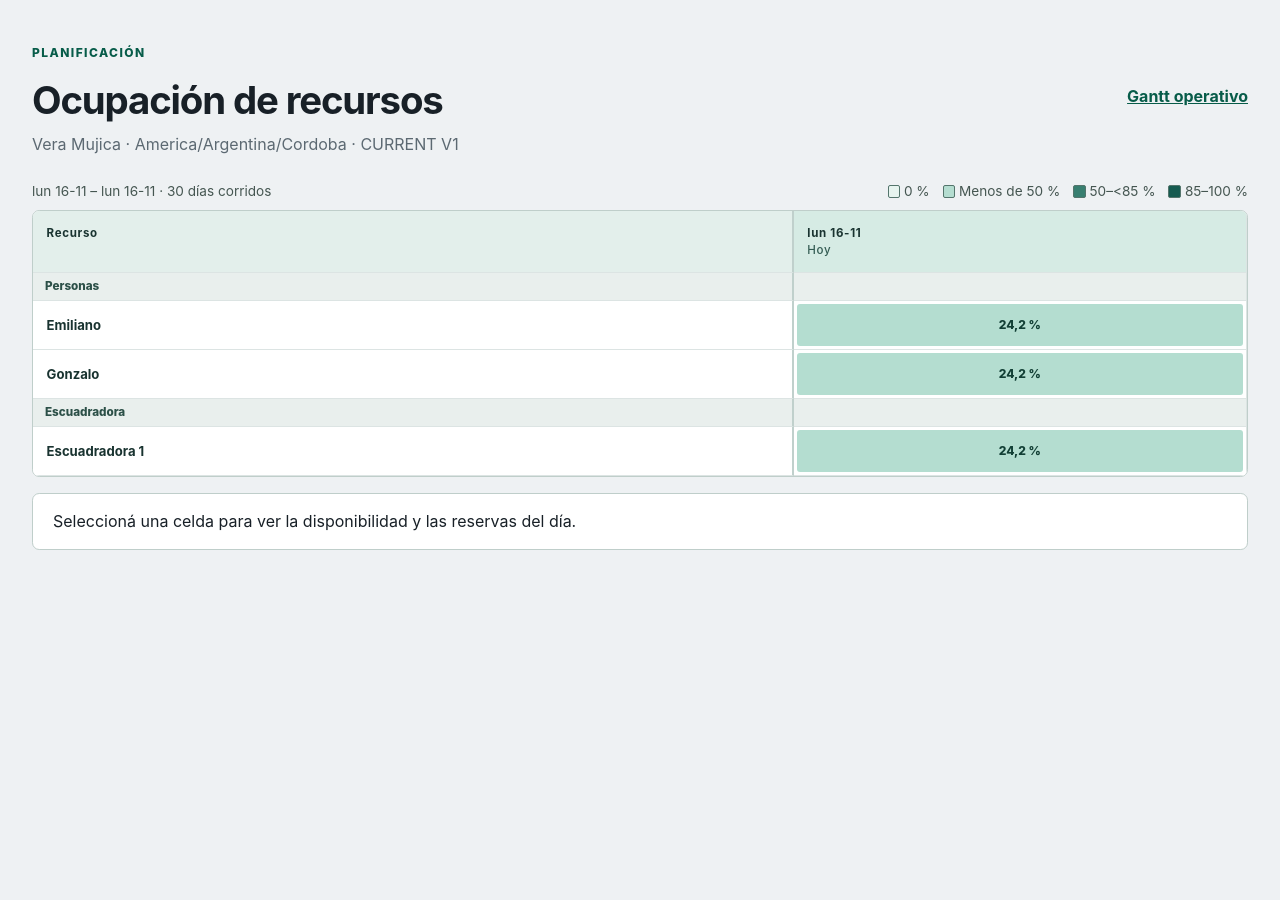
it: muestra el mismo tramo de dos horas en cada recurso de CURRENT
The width and height of the screenshot is (1280, 900).
Click the button "24,2 %" in the row of "Emiliano". click: (1020, 325)
box: 797,304 -> 1243,346
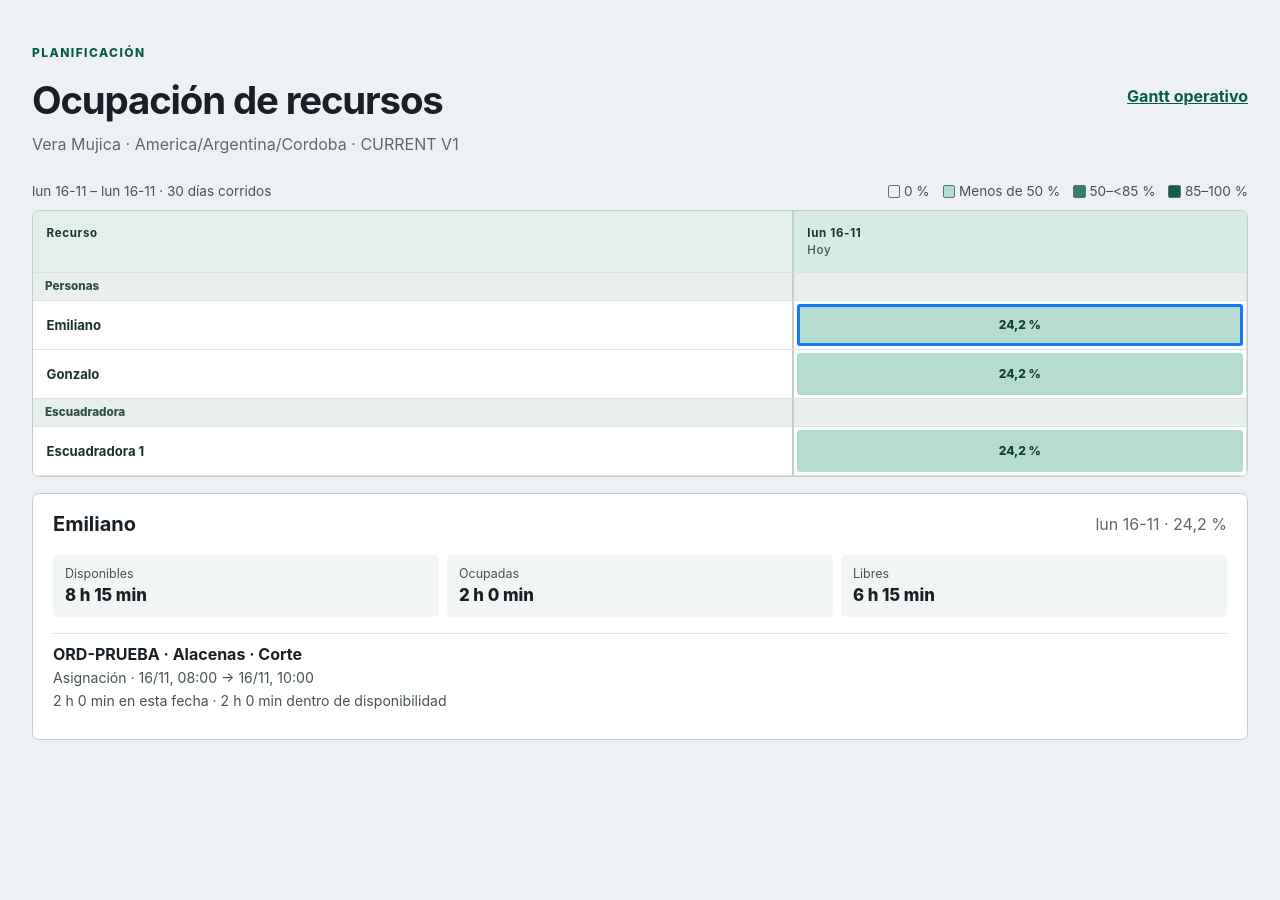
Check: the heading "Emiliano" is shown, box 53,510 -> 136,539
Check: the text "8 h 15 min" is shown, box 65,585 -> 147,605
Check: the text "2 h 0 min" is shown, box 459,585 -> 534,605
Click the button "24,2 %" in the row of "Gonzalo". click: (1020, 374)
box: 797,353 -> 1243,395
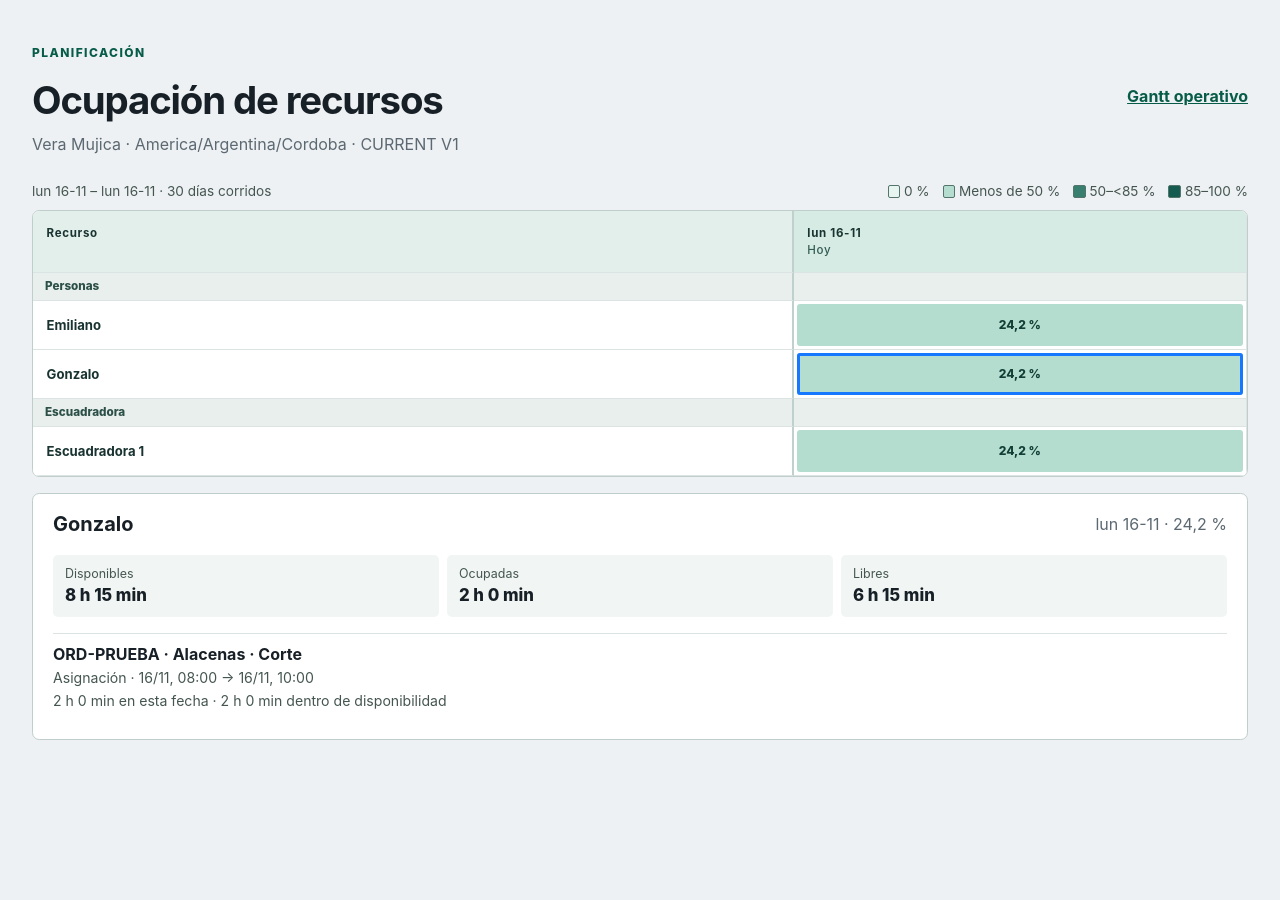
Check: the text "8 h 15 min" is shown, box 65,585 -> 147,605
Check: the text "2 h 0 min" is shown, box 459,585 -> 534,605
Check: the heading "Gonzalo" is shown, box 53,510 -> 134,539
Click the button "24,2 %" in the row of "Escuadradora 1". click: (1020, 451)
box: 797,430 -> 1243,472
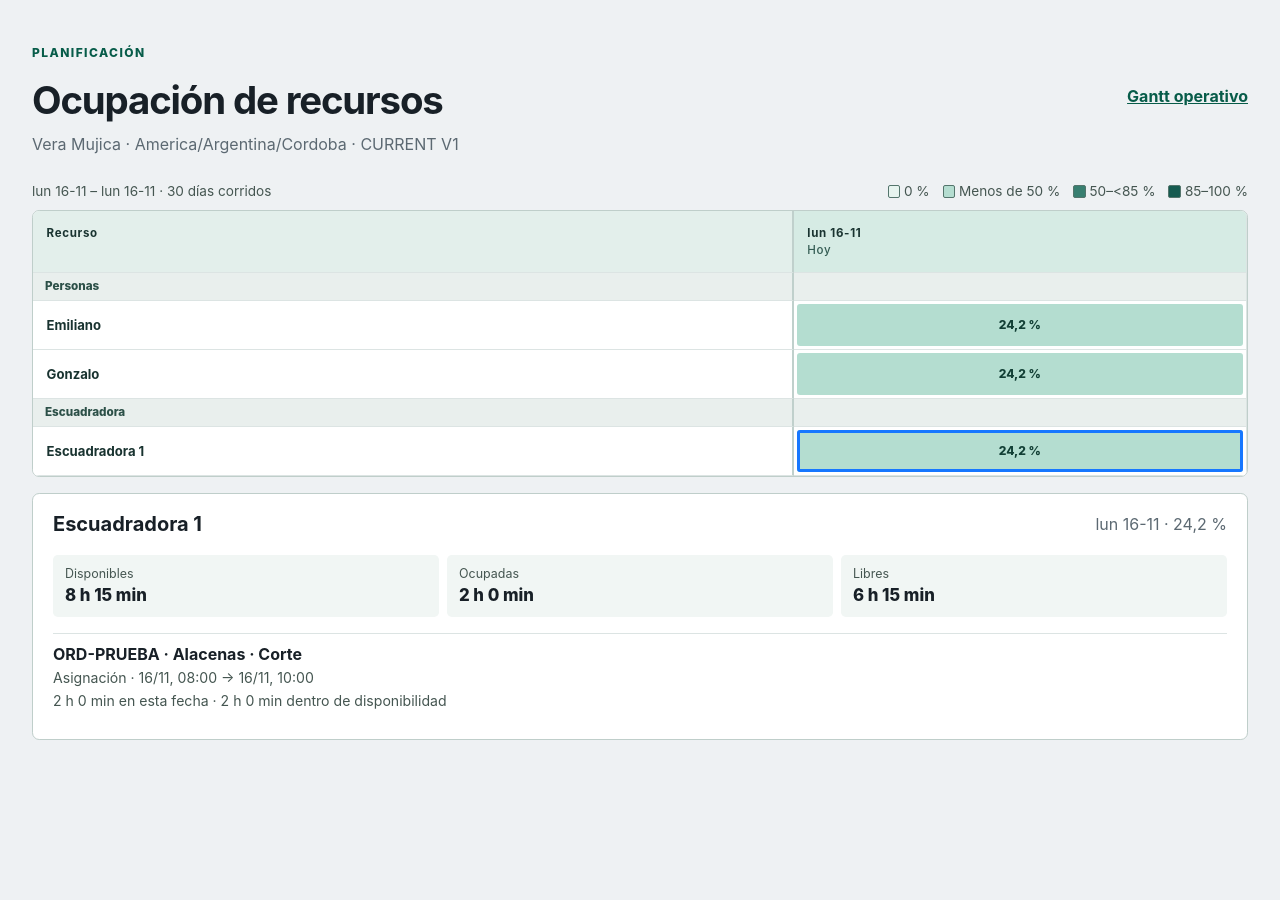
Check: the text "8 h 15 min" is shown, box 65,585 -> 147,605
Check: the text "2 h 0 min" is shown, box 459,585 -> 534,605
Check: the heading "Escuadradora 1" is shown, box 53,510 -> 202,539
